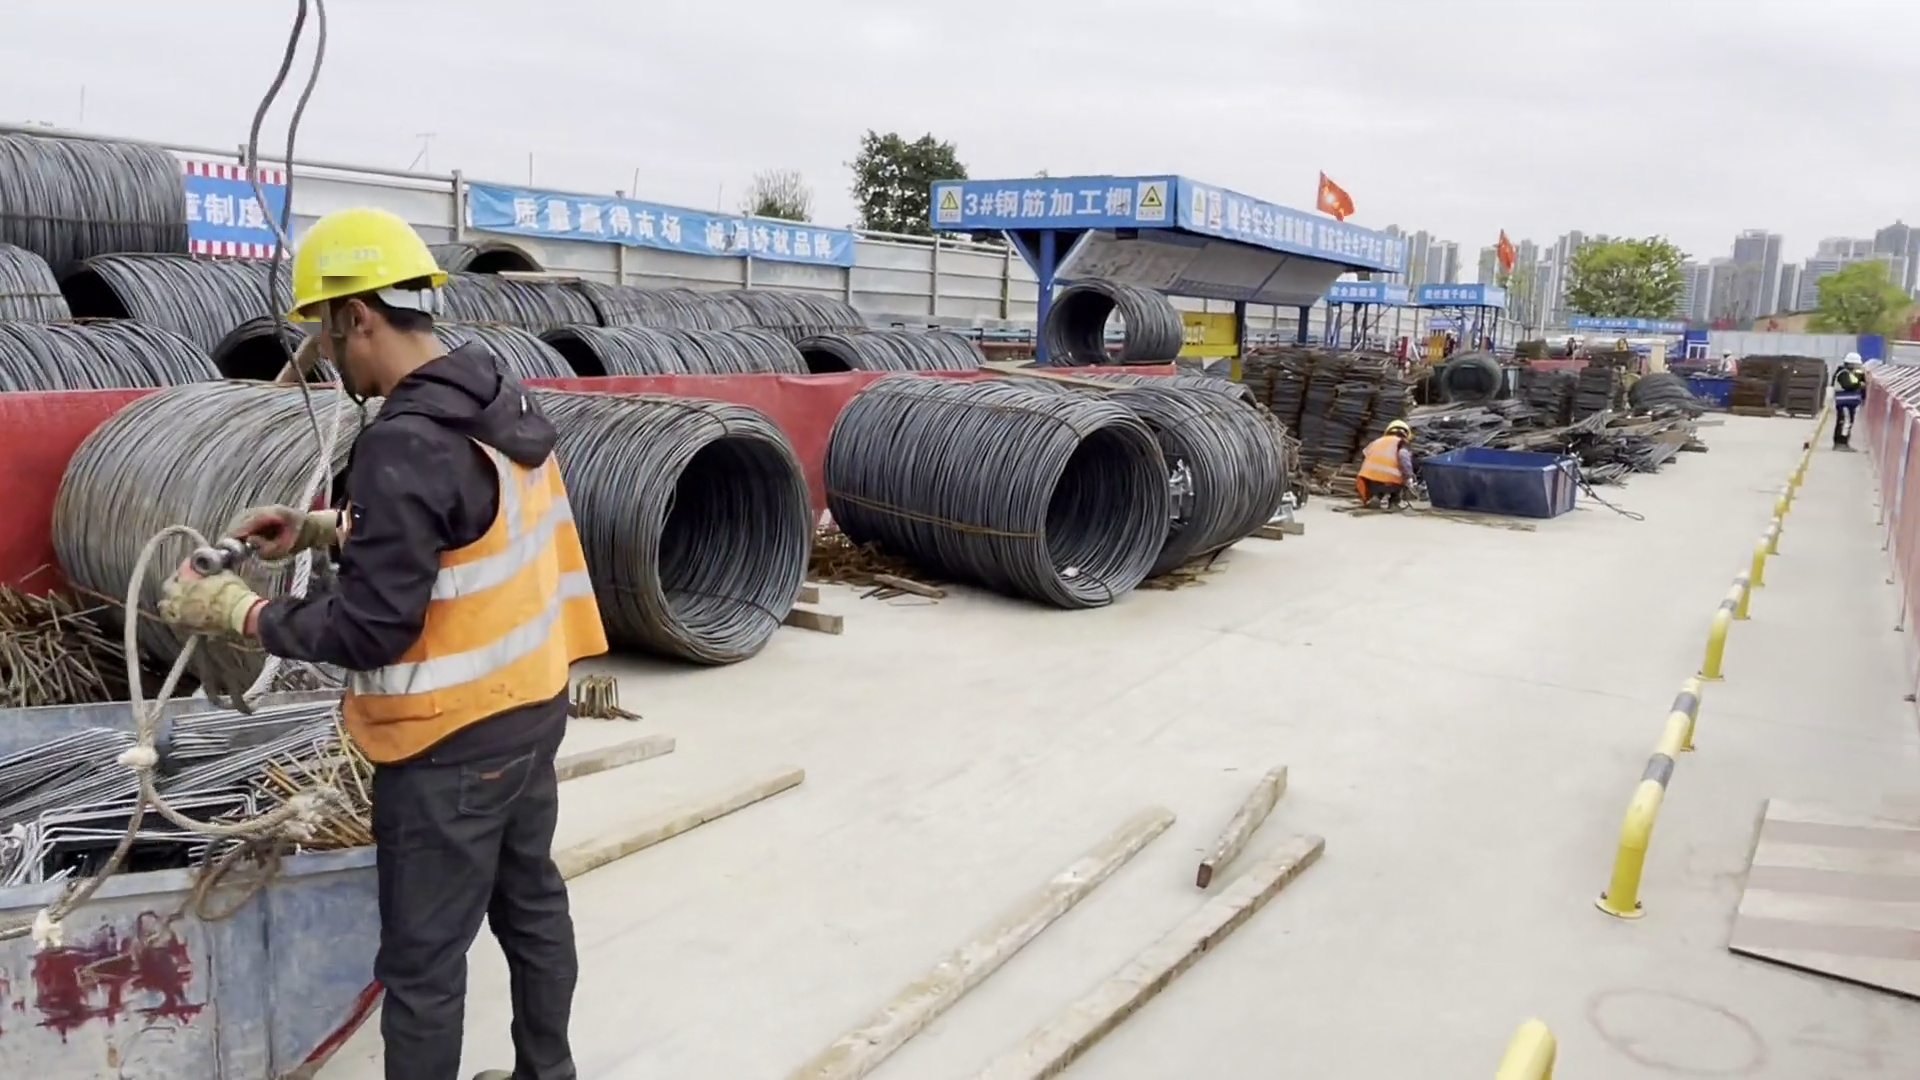fence: (819, 239, 1045, 328), (1877, 388, 1919, 617)
helmet: (282, 203, 454, 299), (1386, 412, 1414, 432), (1843, 349, 1863, 364)
hopper: (4, 691, 458, 1080), (1430, 444, 1578, 524)
person: (277, 201, 597, 1080), (1350, 413, 1427, 519), (1828, 345, 1866, 454), (1718, 348, 1738, 375), (1444, 329, 1457, 358)
slogan: (508, 197, 840, 261), (933, 179, 1181, 241), (1182, 192, 1389, 258), (1422, 285, 1488, 307), (1337, 283, 1392, 305)
vest: (337, 411, 583, 749), (1352, 441, 1409, 490), (1830, 364, 1864, 407)
